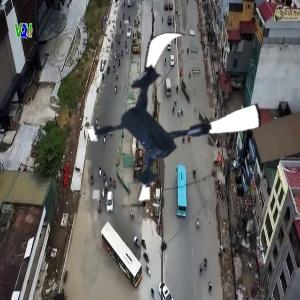drone: (89, 32, 261, 204)
